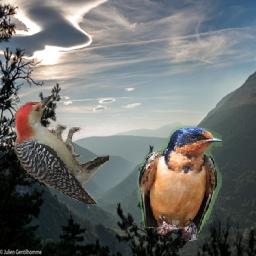Swallow: (138, 125, 223, 241)
Woodpecker: (11, 92, 110, 204)
